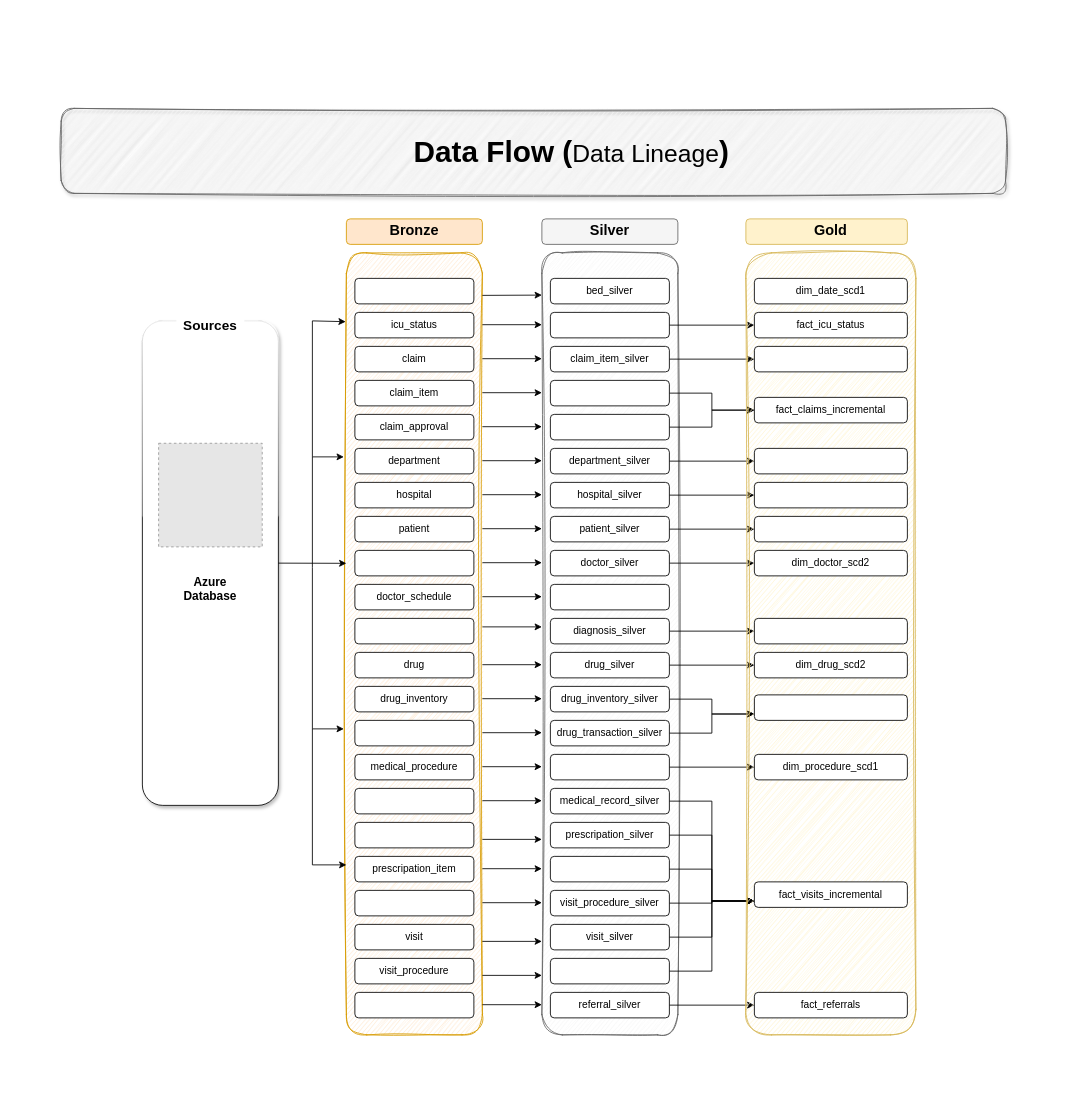
Image size: 1067x1109. Some labels were removed from this diagram. Grey dashed boxes stand in for pictures. The shapes that lost their labels are listed below. From the top down, each one's centre as x and y in pixels, then its label:
pixel 414 291: bed
pixel 609 325: icu_status_silver
pixel 830 359: fact_claim_items_incremental
pixel 609 393: claim_silver
pixel 609 427: claim_approval_silver
pixel 830 461: dim_department_scd2
pixel 830 495: dim_hospital_scd2
pixel 830 529: dim_patient_scd2
pixel 414 563: doctor
pixel 609 597: doctor_schedule_silver
pixel 414 631: diagnosis
pixel 830 631: dim_diagnosis_scd1
pixel 830 707: fact_pharmacy_incremental
pixel 414 733: drug_transaction
pixel 609 767: medical_procedure_silver
pixel 414 801: medical_record
pixel 414 835: prescripation
pixel 609 869: prescripation_item_silver
pixel 414 903: referral
pixel 609 971: patient_feedback_silver
pixel 414 1005: patient_feedback
